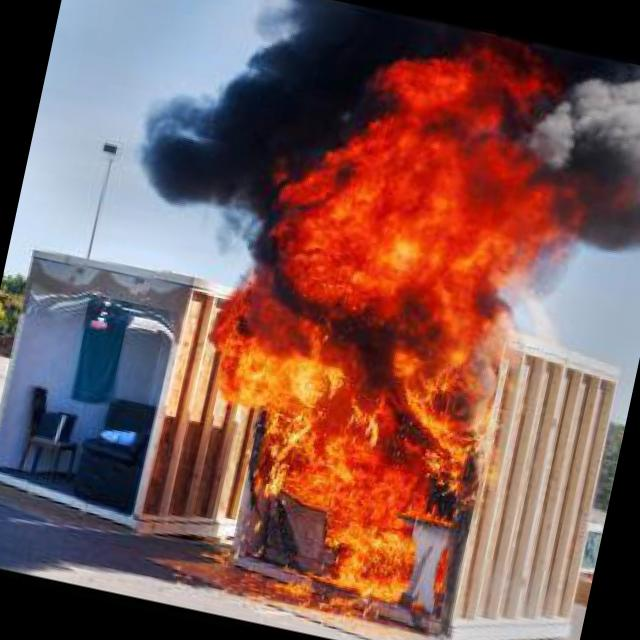fire: (165, 12, 580, 626)
smoke: (119, 0, 321, 230), (531, 49, 640, 273)
